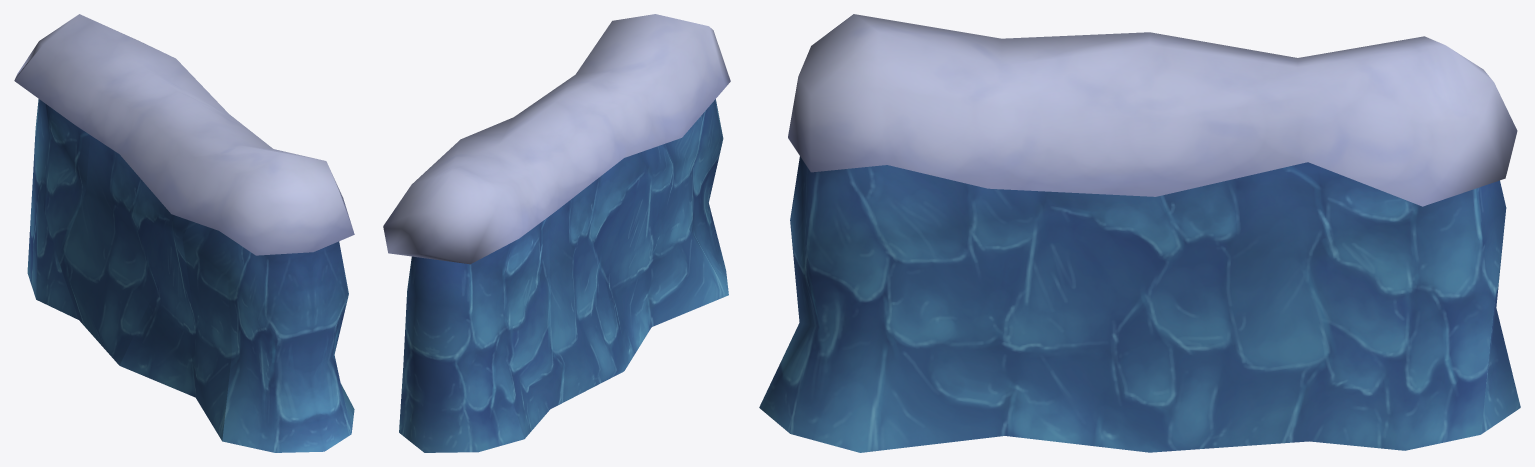
Rendered from ice_wall_01.fbx.
3 renders of one model, left to right at view 1: azimuth 30°, elevation 25°; view 2: azimuth 150°, elevation 25°; view 3: azimuth 270°, elevation 25°, orthographic. The views are drawn at different scales.
Visible parts, largest first — view 1: ice_wall_01; view 2: ice_wall_01; view 3: ice_wall_01.
Part boxes in pixels (x1,y1,x2,y2): ice_wall_01: (14,14,354,452); ice_wall_01: (383,14,730,452); ice_wall_01: (759,14,1520,452).
Size of the model in its own units: 1.41 by 2.52 by 4.6.
